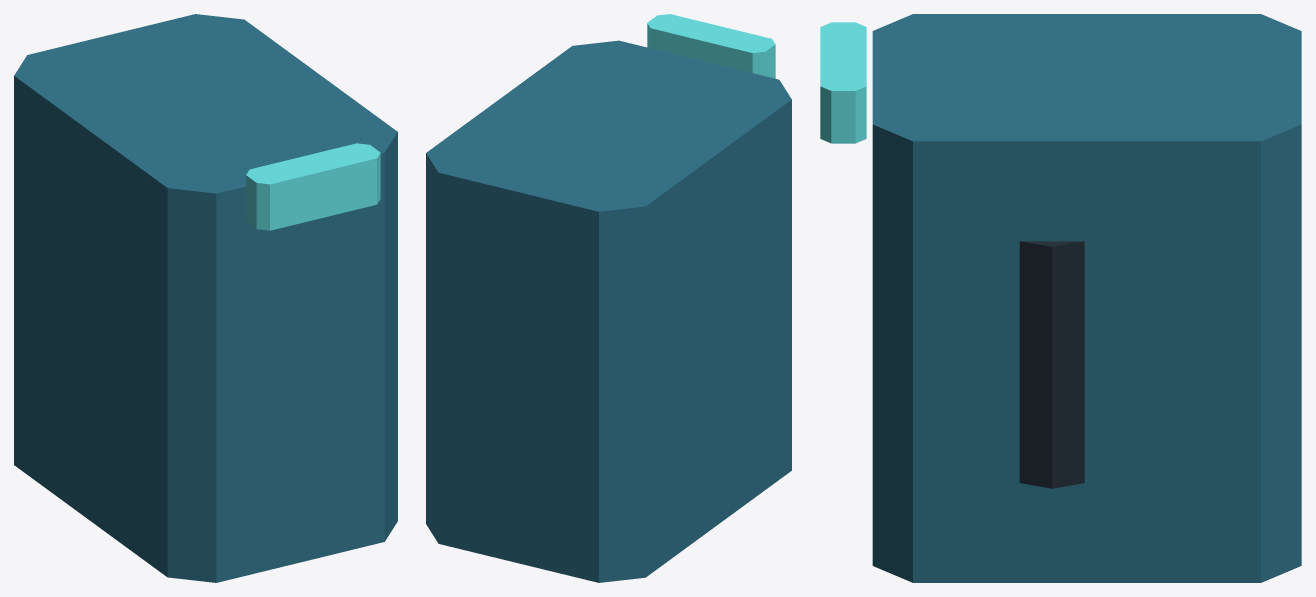
Rendered from enemy_marksman_forearm_l.obj.
The picture shows the model from 3 angles, left to right: view 1: azimuth 30°, elevation 25°; view 2: azimuth 150°, elevation 25°; view 3: azimuth 270°, elevation 25°; orthographic projection. The views are drawn at different scales.
Size of the model in its own units: 0.2716 by 0.44 by 0.415.
